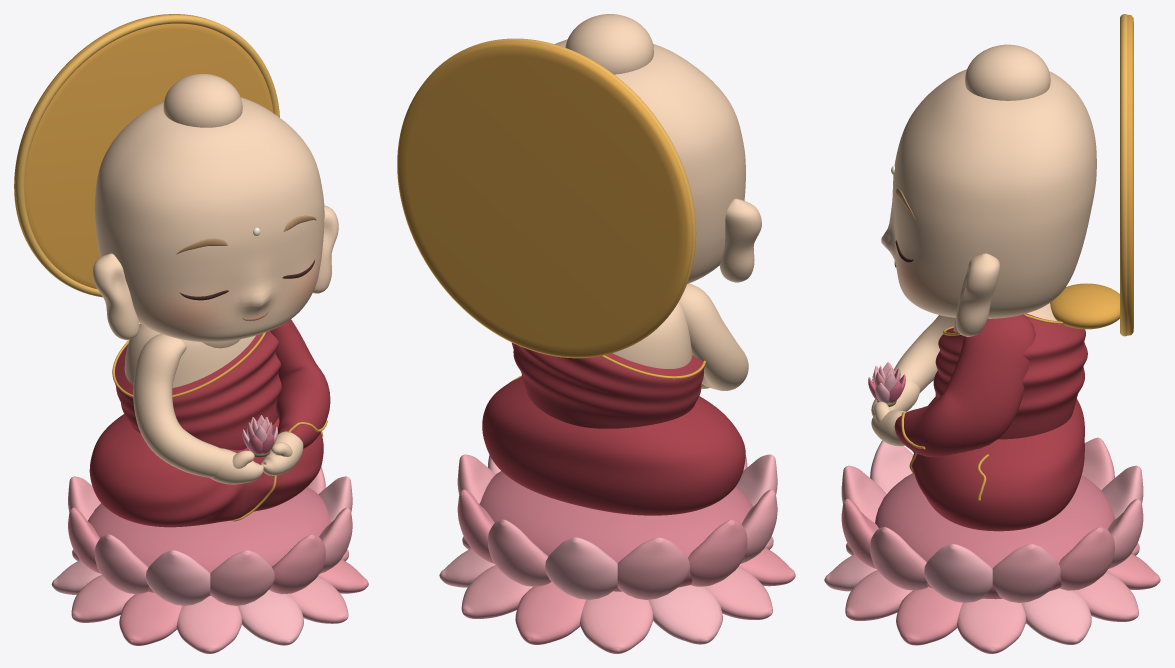
Rendered from chibi-a-di-da.glb.
The picture shows the model from 3 angles, left to right: view 1: azimuth 30°, elevation 25°; view 2: azimuth 150°, elevation 25°; view 3: azimuth 270°, elevation 25°; orthographic projection. The views are drawn at different scales.
Parts seen in each view (by area): view 1: Amitabha | Chibi figurine; view 2: Amitabha | Chibi figurine; view 3: Amitabha | Chibi figurine.
Part boxes in pixels (x1,y1,x2,y2): Amitabha | Chibi figurine: [14, 14, 368, 653]; Amitabha | Chibi figurine: [397, 14, 795, 653]; Amitabha | Chibi figurine: [824, 14, 1160, 653].
Size of the model in its own units: 2.15 by 3.94 by 2.15.
